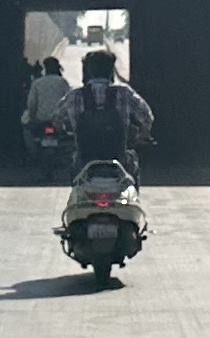BikeWithRider: (53, 48, 153, 286), (22, 52, 76, 182)
NoHelmet: (84, 48, 118, 89), (44, 55, 63, 80)
